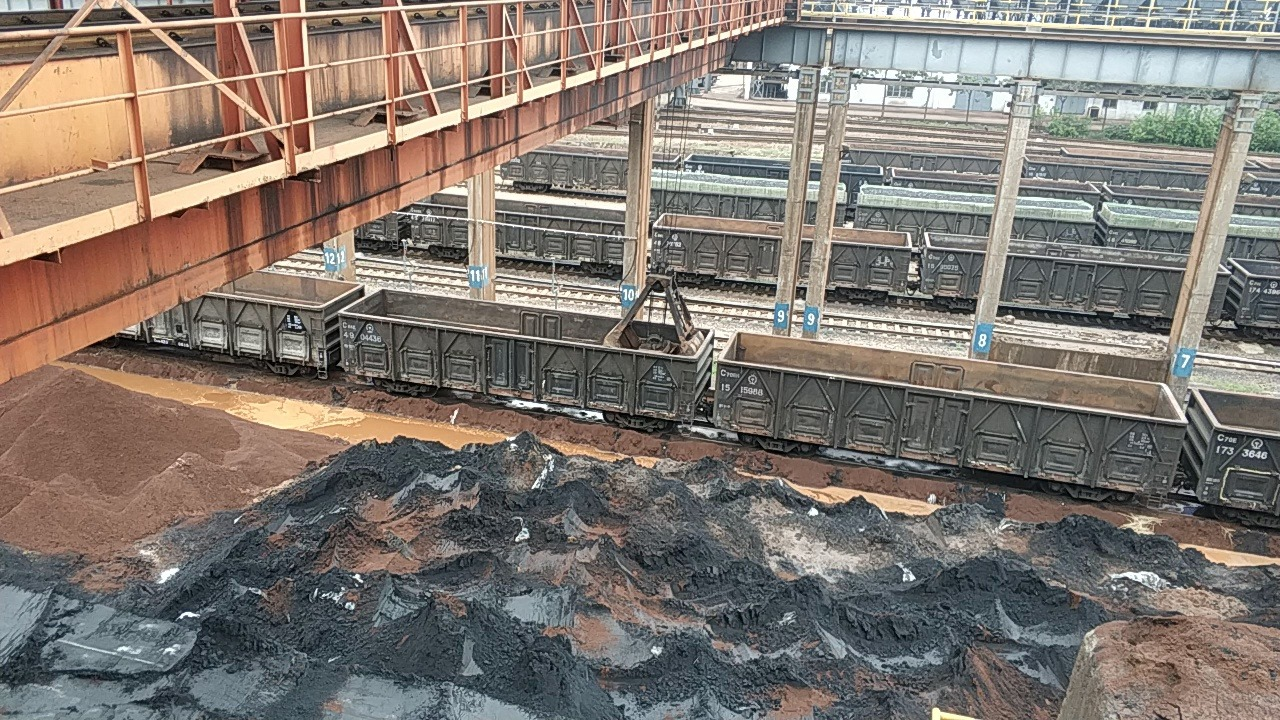grab: (599, 257, 709, 368)
